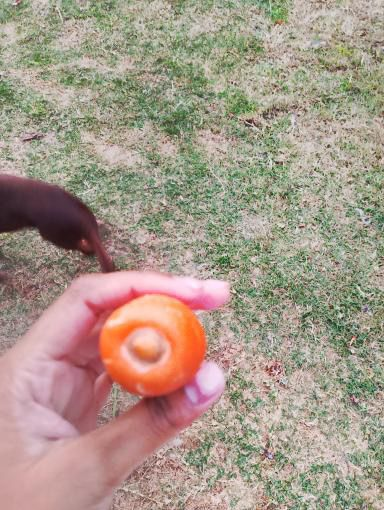carrot: (91, 293, 214, 416)
